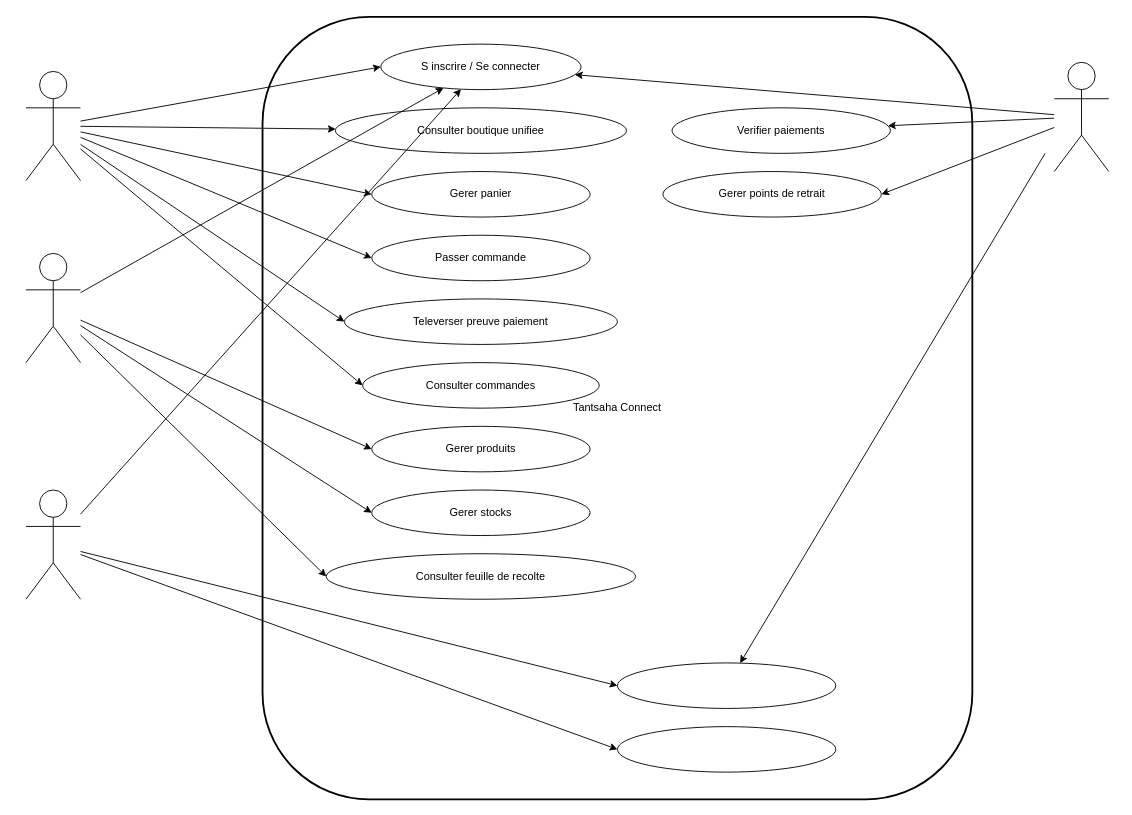
This 1132x815 diagram has some shape labels left out. Here are the shapes that lost their labels. From the top down, the box of each, then its label:
(25, 71, 81, 181): Consommateur
(1053, 61, 1109, 172): Administrateur
(25, 253, 81, 363): Producteur
(25, 489, 81, 599): Gestionnaire
(617, 662, 836, 708): Gerer sessions de vente
(617, 726, 836, 772): Valider remise commande
